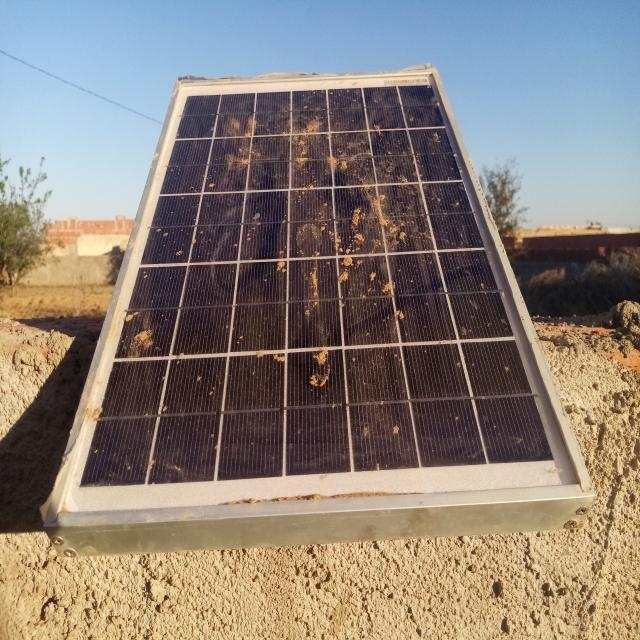faulty: (51, 72, 588, 519)
